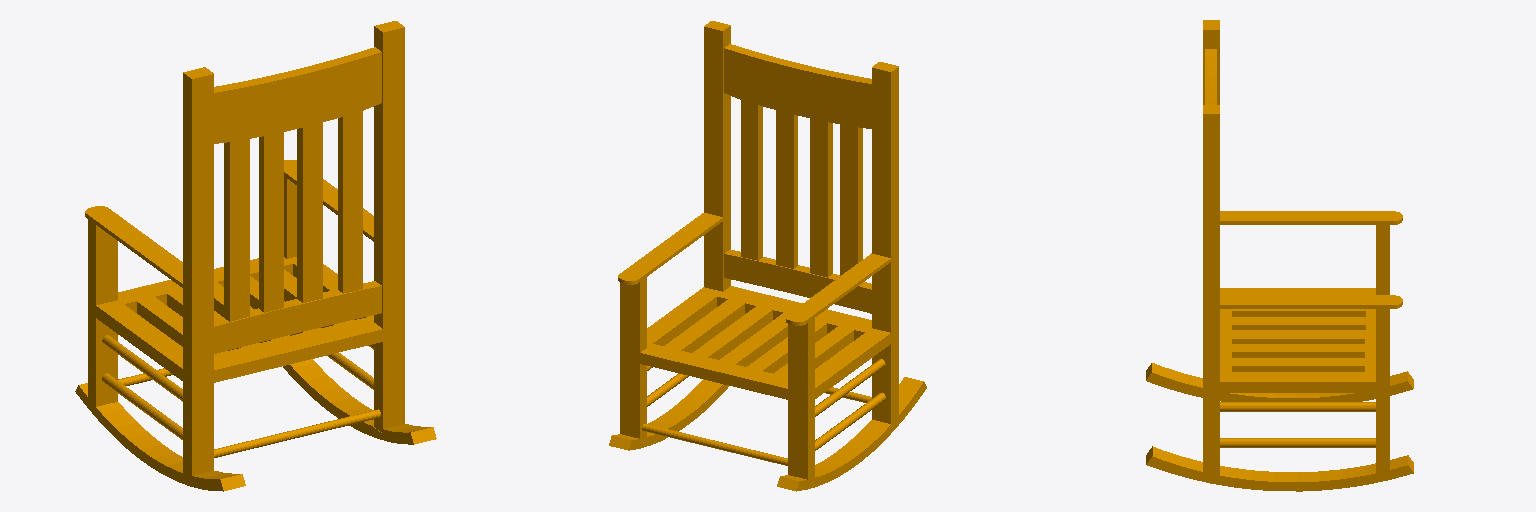
URDF robot description (7fc8b858cad8f5849df6f10c48eb6cee):
<?xml version="1.0" ?>
<robot name="7fc8b858cad8f5849df6f10c48eb6cee">

  <link name="base">

    <inertial>
      <mass value="1"/>
      <inertia ixx="1" ixy="0" ixz="0" iyy="1" iyz="0" izz="1"/>
    </inertial>

    <visual>
      <origin rpy="1.57079 0 0" xyz="0 0 0.24"/>
      <geometry>
        <mesh filename ="models/model_normalized.obj" scale="1 1 1"/>
      </geometry>
    </visual>

    <collision>
      <origin rpy="1.57079 0 0" xyz="0 0 0.24"/>
      <geometry>
        <mesh filename ="models/model_normalized.obj" scale="1 1 1"/>
      </geometry>
    </collision>

  </link>
  
</robot>

--- Render facts (derived) ---
The picture shows the robot from 3 angles, left to right: view 1: azimuth 30°, elevation 25°; view 2: azimuth 150°, elevation 25°; view 3: azimuth 270°, elevation 25°; orthographic projection.
Model 7fc8b858cad8f5849df6f10c48eb6cee with 1 links and 0 joints (none), rooted at base, posed every joint at zero.
Links seen in each view (by area): view 1: base; view 2: base; view 3: base.
Link boxes in pixels (x1=…): base: x1=75, y1=21, x2=436, y2=491; base: x1=609, y1=21, x2=926, y2=491; base: x1=1146, y1=20, x2=1413, y2=491.
Bounding box of the posed robot: 0.4079 × 0.4932 × 0.7643 m (x, y, z).
1 mesh visuals loaded from 1 distinct referenced files (1 OBJ).